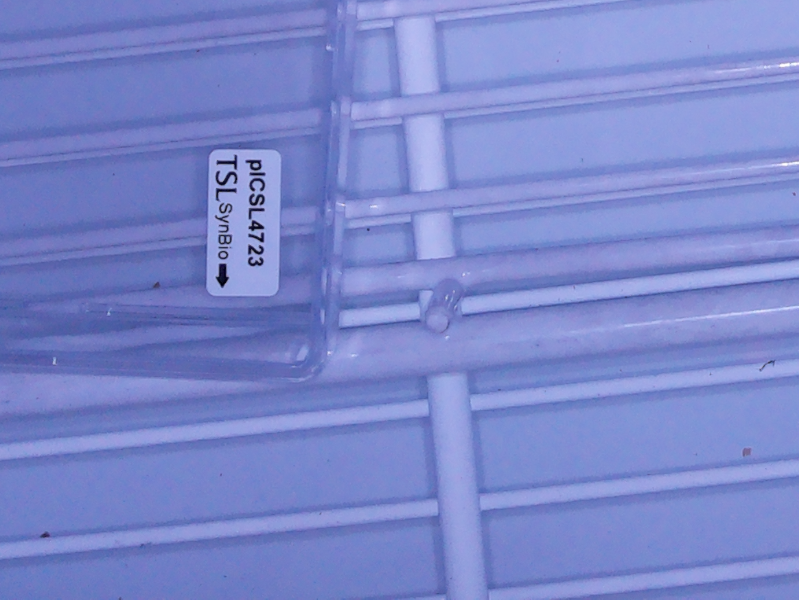plate: (1, 1, 359, 386)
